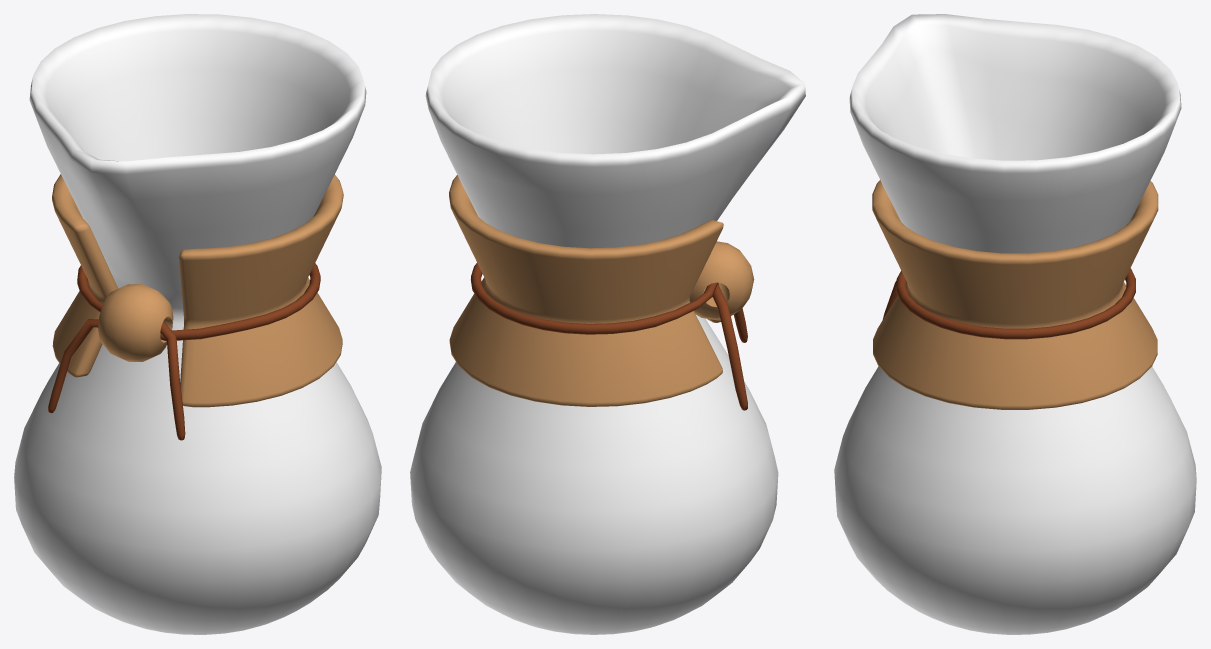
Rendered from SM_chemex.glb.
3 views of the same model, side by side, from view 1: azimuth 30°, elevation 25°; view 2: azimuth 150°, elevation 25°; view 3: azimuth 270°, elevation 25° (orthographic).
Parts seen in each view (by area): view 1: SM_chemex; view 2: SM_chemex; view 3: SM_chemex.
Part boxes in pixels (x1,y1,x2,y2): SM_chemex: [14, 14, 381, 634]; SM_chemex: [410, 14, 805, 634]; SM_chemex: [834, 14, 1196, 634].
Bounding box in the file's own units: 0.3127 × 0.4783 × 0.3102.
Materials: 2 (2 with a texture image).
